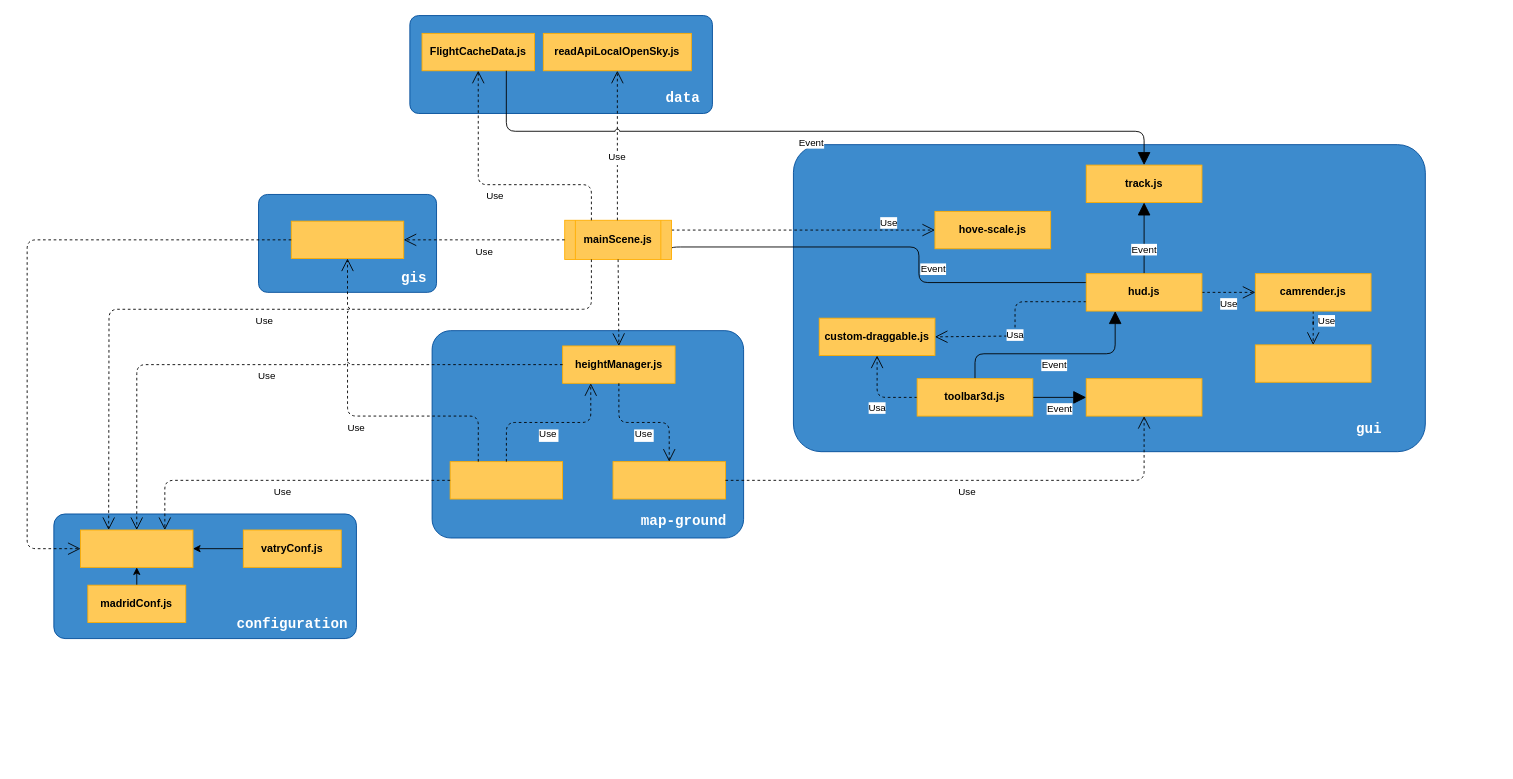
The diagram is 1513 pixels wide and 779 high, and some of its shapes have lost their labels. The shapes that lost their labels are listed below. From the top down, each one's box as (x1, y1, x2, y2) in pixels, then its label:
(290, 220, 404, 259): mapConversion.js
(1254, 344, 1371, 382): canvas-updater.js
(1085, 378, 1202, 416): tooltip-info.js
(449, 461, 563, 499): camera-height.js
(612, 461, 725, 499): building-geometry.js
(80, 529, 193, 567): openSkyModel.js
